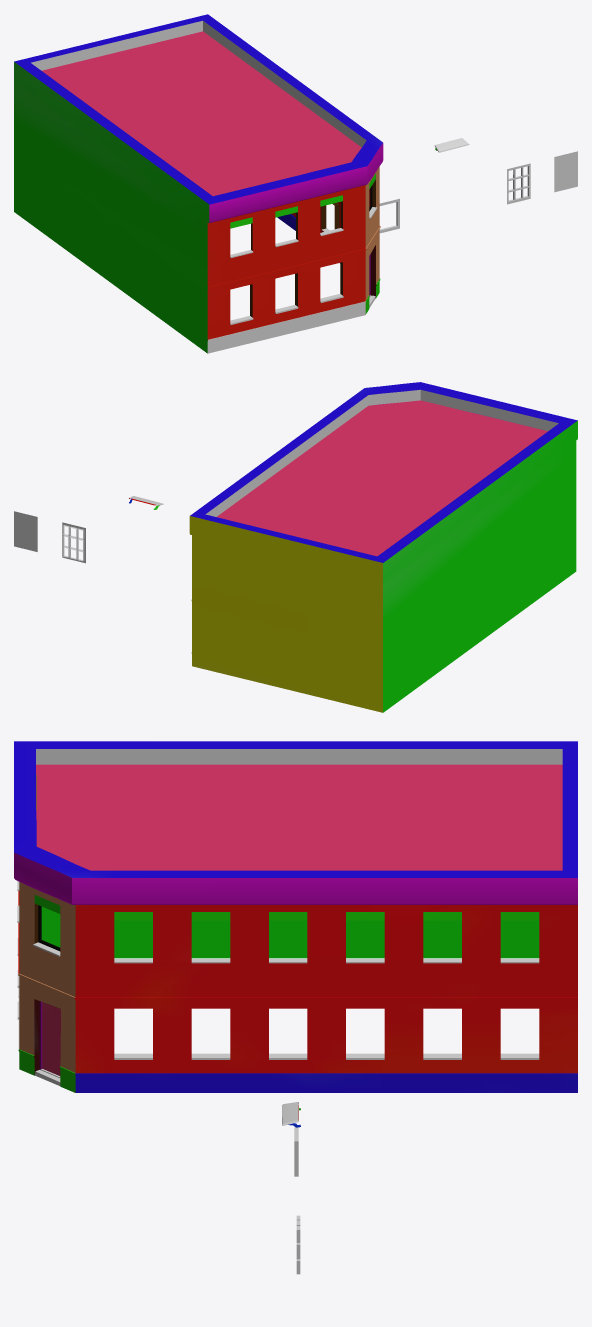
Rendered from Batiment2.fbx.
The picture shows the model from 3 angles, top to bottom: view 1: azimuth 30°, elevation 25°; view 2: azimuth 150°, elevation 25°; view 3: azimuth 270°, elevation 25°; orthographic projection. The views are drawn at different scales.
Visible parts, largest first — view 1: batiment2, window_sky, Window_2; view 2: batiment2, window_sky, Window_2; view 3: batiment2.
Boxes of the visible parts, left/top/right/bottom form: batiment2: left=14, top=14, right=383, bottom=353; window_sky: left=554, top=151, right=577, bottom=192; Window_2: left=507, top=163, right=530, bottom=204; batiment2: left=189, top=382, right=577, bottom=712; window_sky: left=14, top=511, right=37, bottom=551; Window_2: left=62, top=522, right=85, bottom=563; batiment2: left=14, top=741, right=577, bottom=1092.
Size of the model in its own units: 1950 by 671 by 1413.
